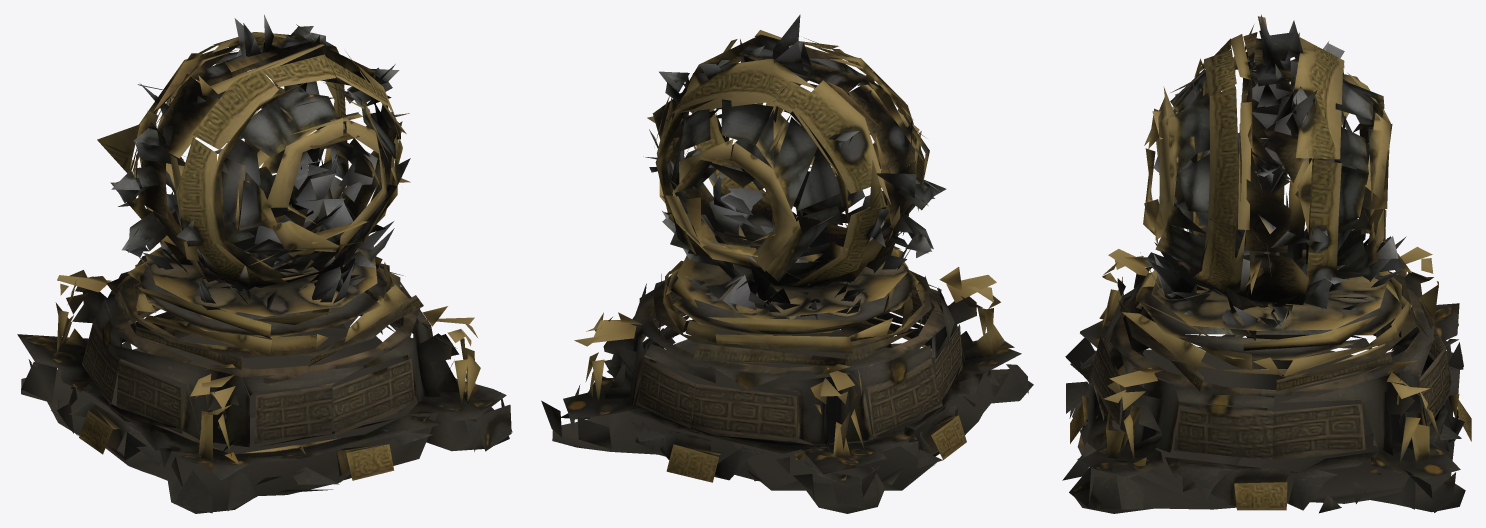
Rendered from ch10_heart_vault_core_LOD3.glb.
3 renders of one model, left to right at view 1: azimuth 30°, elevation 25°; view 2: azimuth 150°, elevation 25°; view 3: azimuth 270°, elevation 25°, orthographic. The views are drawn at different scales.
Visible parts, largest first — view 1: tripo_node_1f63250c-70a3-4314-afd8-5a8f577c92ea; view 2: tripo_node_1f63250c-70a3-4314-afd8-5a8f577c92ea; view 3: tripo_node_1f63250c-70a3-4314-afd8-5a8f577c92ea.
Boxes of the visible parts, box(x1,y1,x2,y2) form: tripo_node_1f63250c-70a3-4314-afd8-5a8f577c92ea: box(17, 14, 512, 513); tripo_node_1f63250c-70a3-4314-afd8-5a8f577c92ea: box(541, 14, 1033, 513); tripo_node_1f63250c-70a3-4314-afd8-5a8f577c92ea: box(1062, 14, 1471, 513).
Size of the model in its own units: 0.9287 by 1.04 by 0.9155.
Materials: 1 (1 with a texture image).
